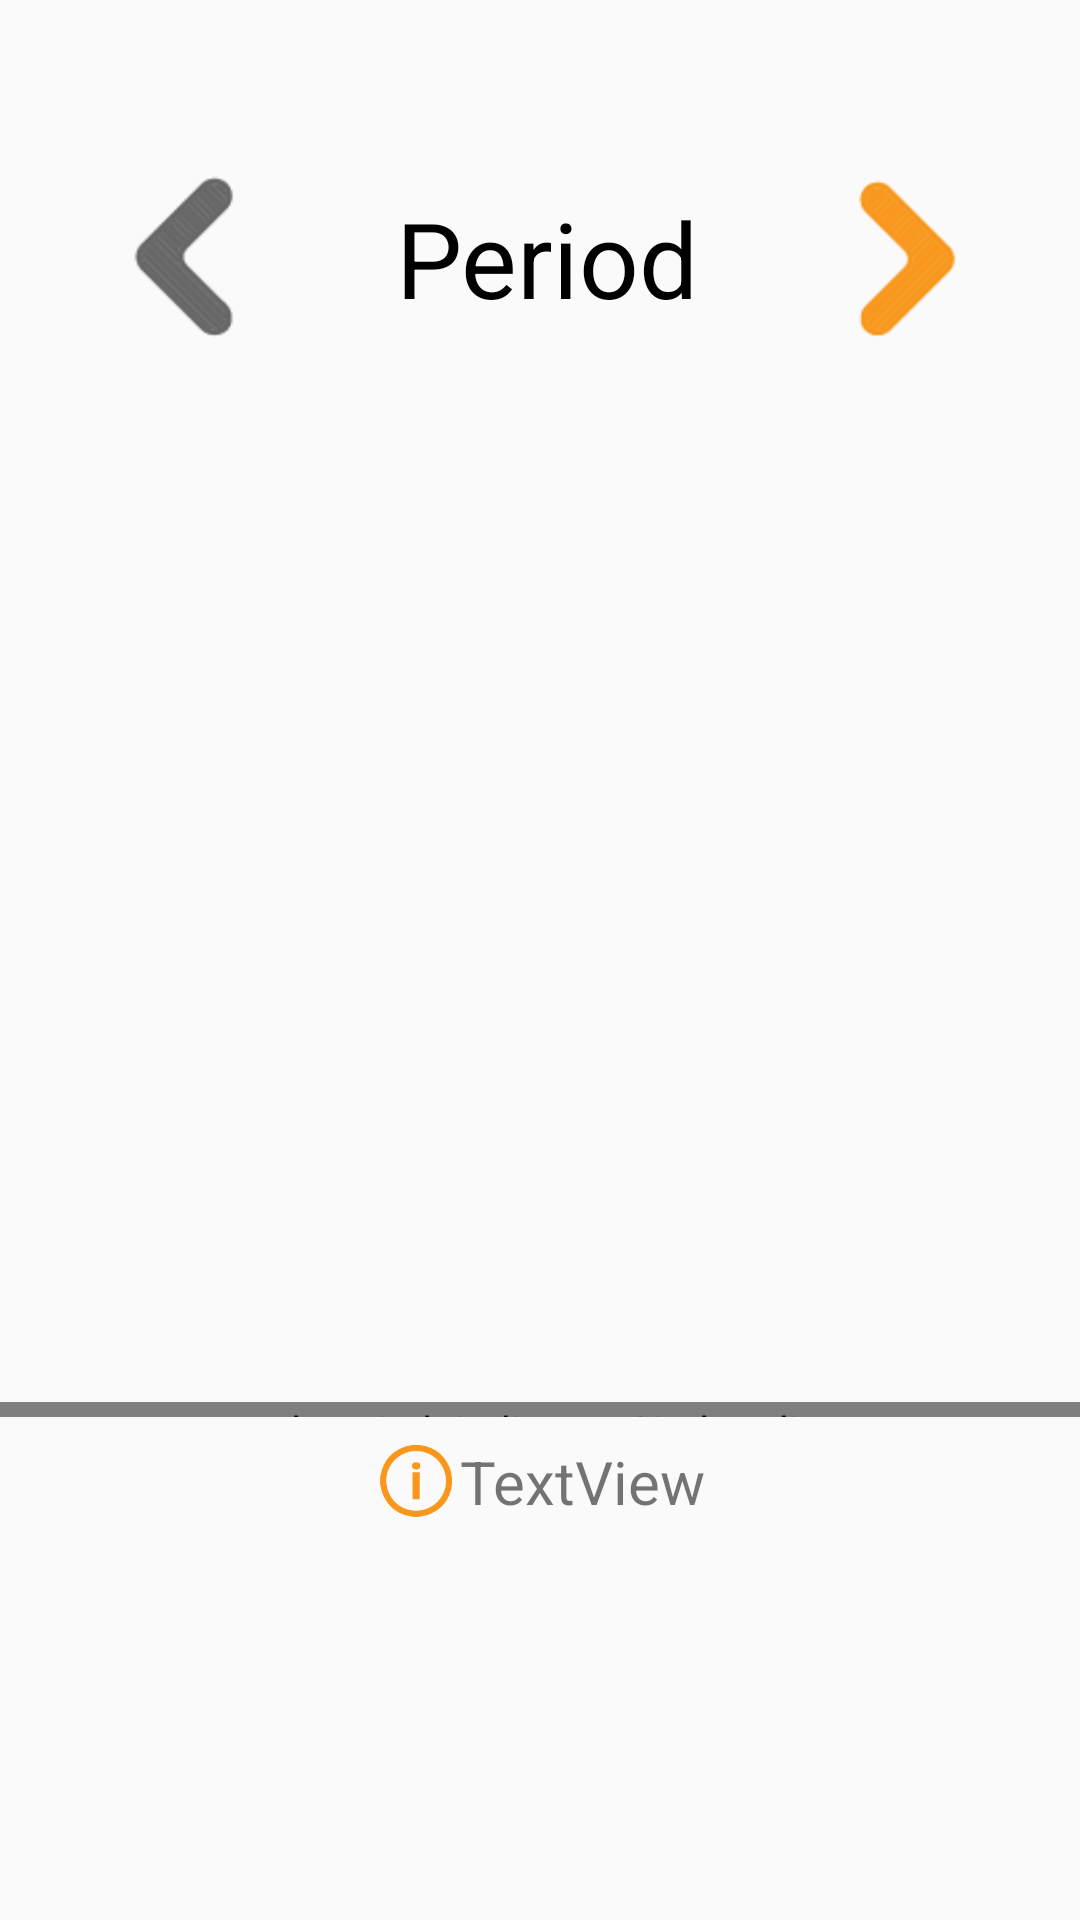

Where to tap for icons on this 1080x1920 app screen, as (x=x, y=y):
inform mark: (x=416, y=1481)
left arrow: (x=184, y=256)
right arrow: (x=907, y=258)
